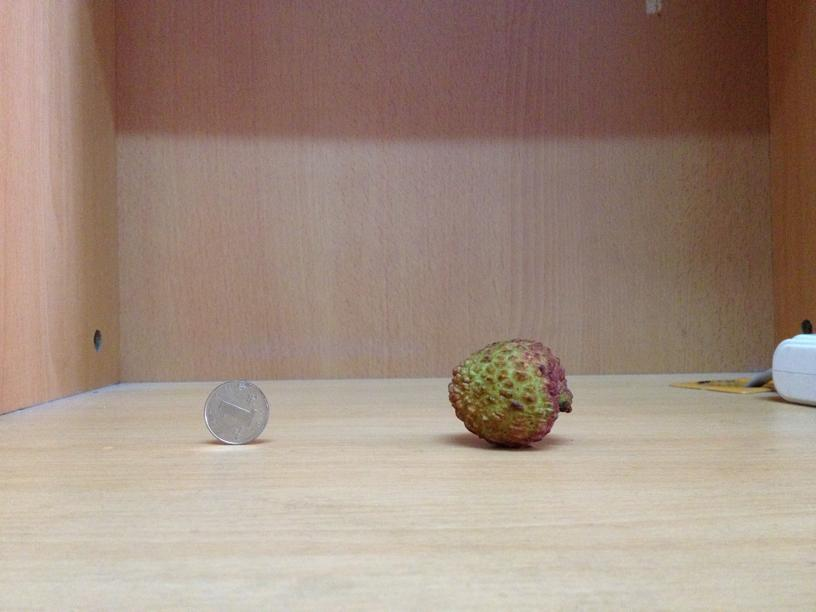coin: (200, 376, 271, 443)
litchi: (445, 333, 573, 447)
